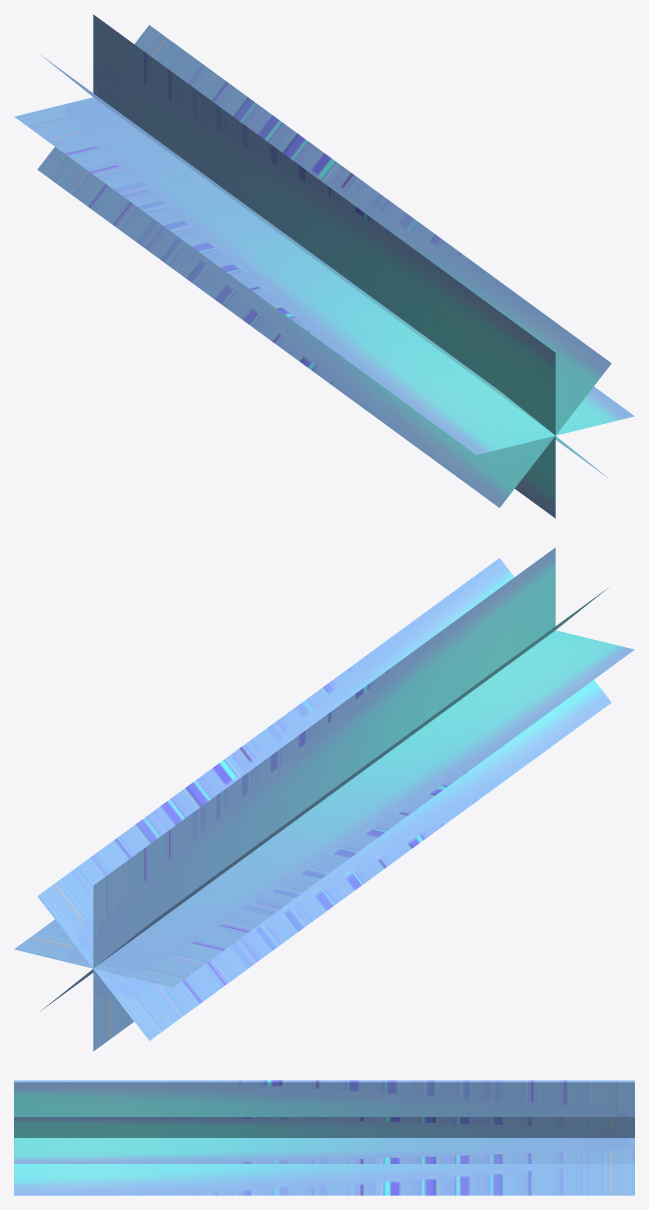
Rendered from tuowei.FBX.
3 views of the same model, one above another, from view 1: azimuth 30°, elevation 25°; view 2: azimuth 150°, elevation 25°; view 3: azimuth 270°, elevation 25° (orthographic). The views are drawn at different scales.
Visible parts, largest first — view 1: Plane005; view 2: Plane005; view 3: Plane005.
Boxes of the visible parts, box(x1,y1,x2,y2) form: Plane005: box(14, 14, 634, 518); Plane005: box(14, 547, 634, 1051); Plane005: box(14, 1080, 634, 1195).
Size of the model in its own units: 1.35 by 1.35 by 6.8.
Materials: 1 (1 with a texture image).
